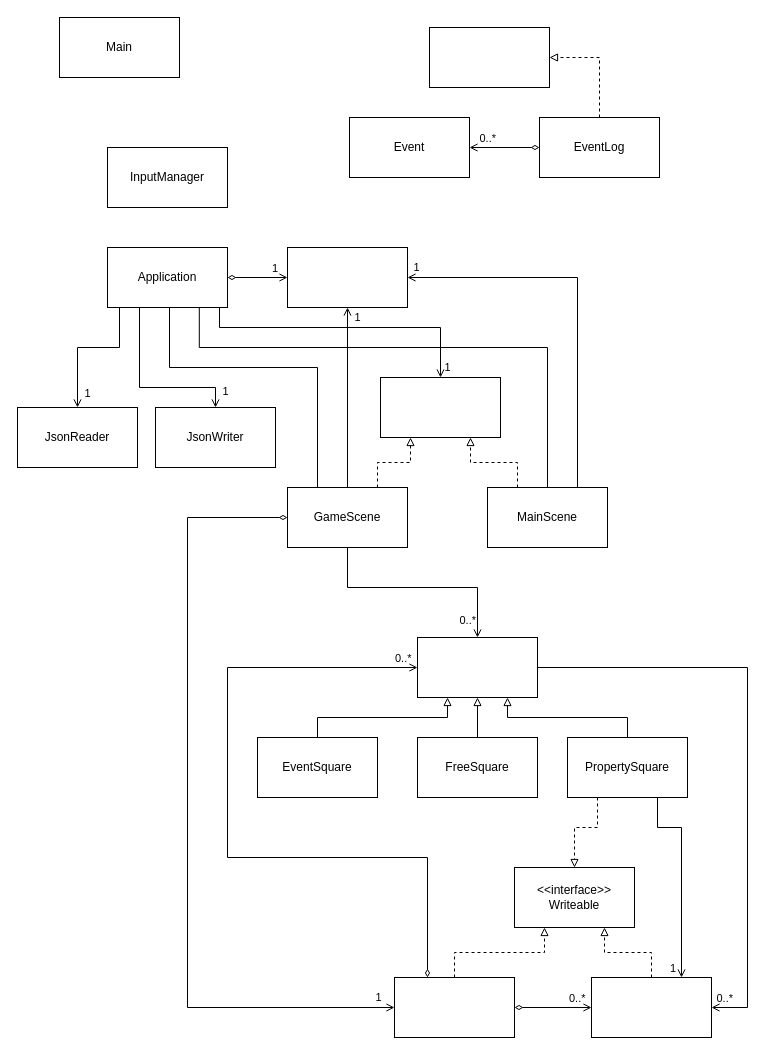
This 773x1055 diagram has some shape labels left out. Each missing label, with the centre of its shape:
"<<abstract>> Square" goes at [477,667].
"<<interface>> Iterable<Event>" goes at [489,57].
"<<interface>> Scene" goes at [440,407].
"ConsoleRenderer" goes at [347,277].
"MonopolyGame" goes at [454,1007].
"Player" goes at [651,1007].
